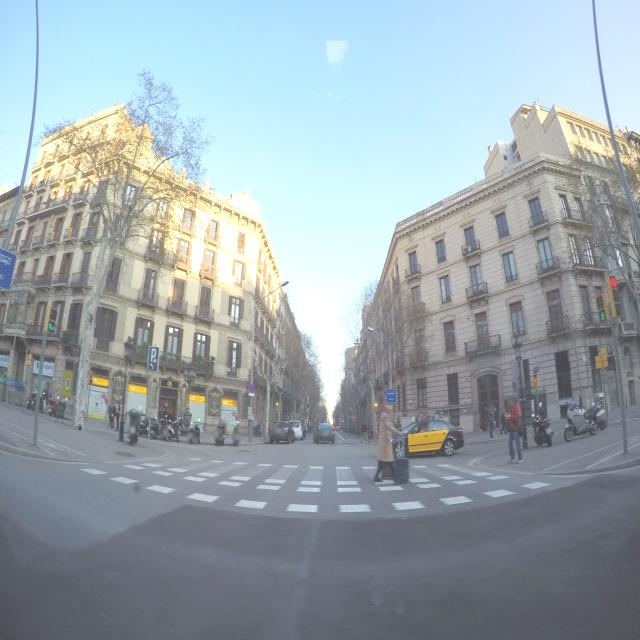bike: (563, 406, 602, 442), (582, 401, 608, 433)
car: (396, 411, 465, 457), (269, 421, 295, 444), (312, 422, 336, 444), (290, 420, 304, 440)
